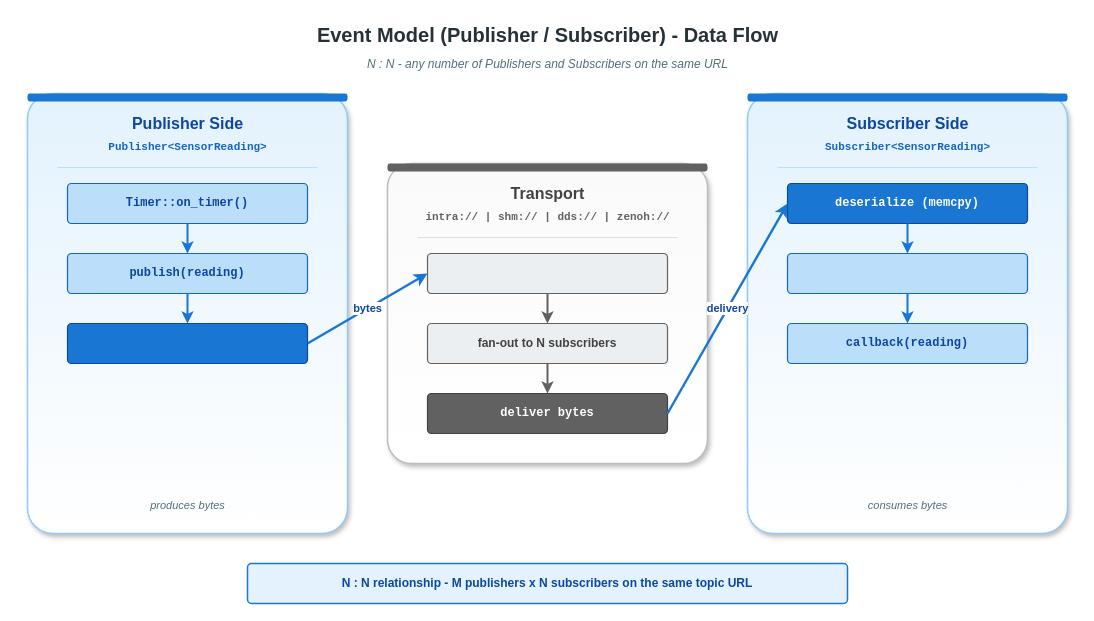
The diagram is 1094 pixels wide and 621 high, and some of its shapes have lost their labels. Here are the shapes that lost their labels. From the top down, the centre of each, then its label:
the point at 547,273: route & dispatch
the point at 907,273: MessageLoop::dispatch()
the point at 187,343: serialize (memcpy)
